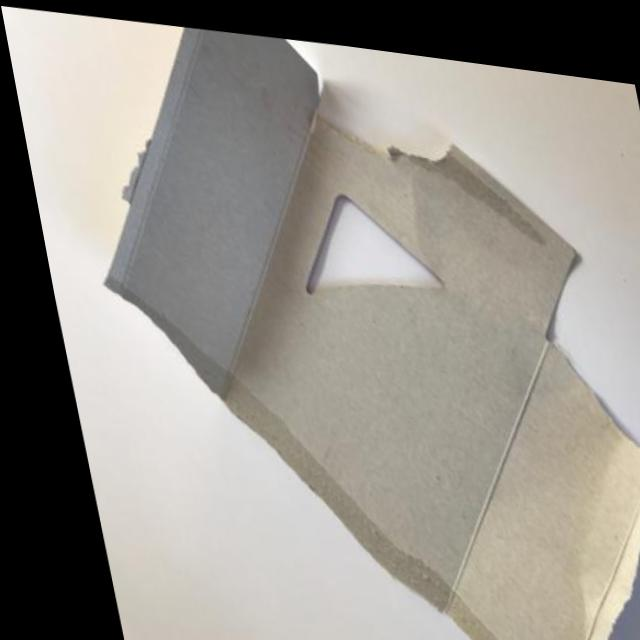paper: (60, 6, 640, 640)
